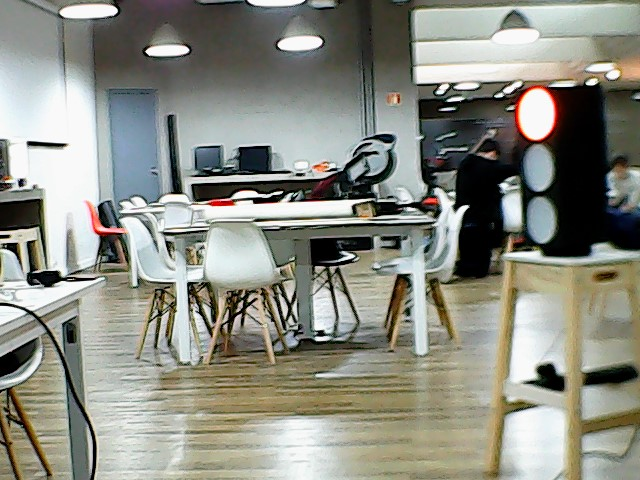vermelho: (512, 81, 614, 248)
